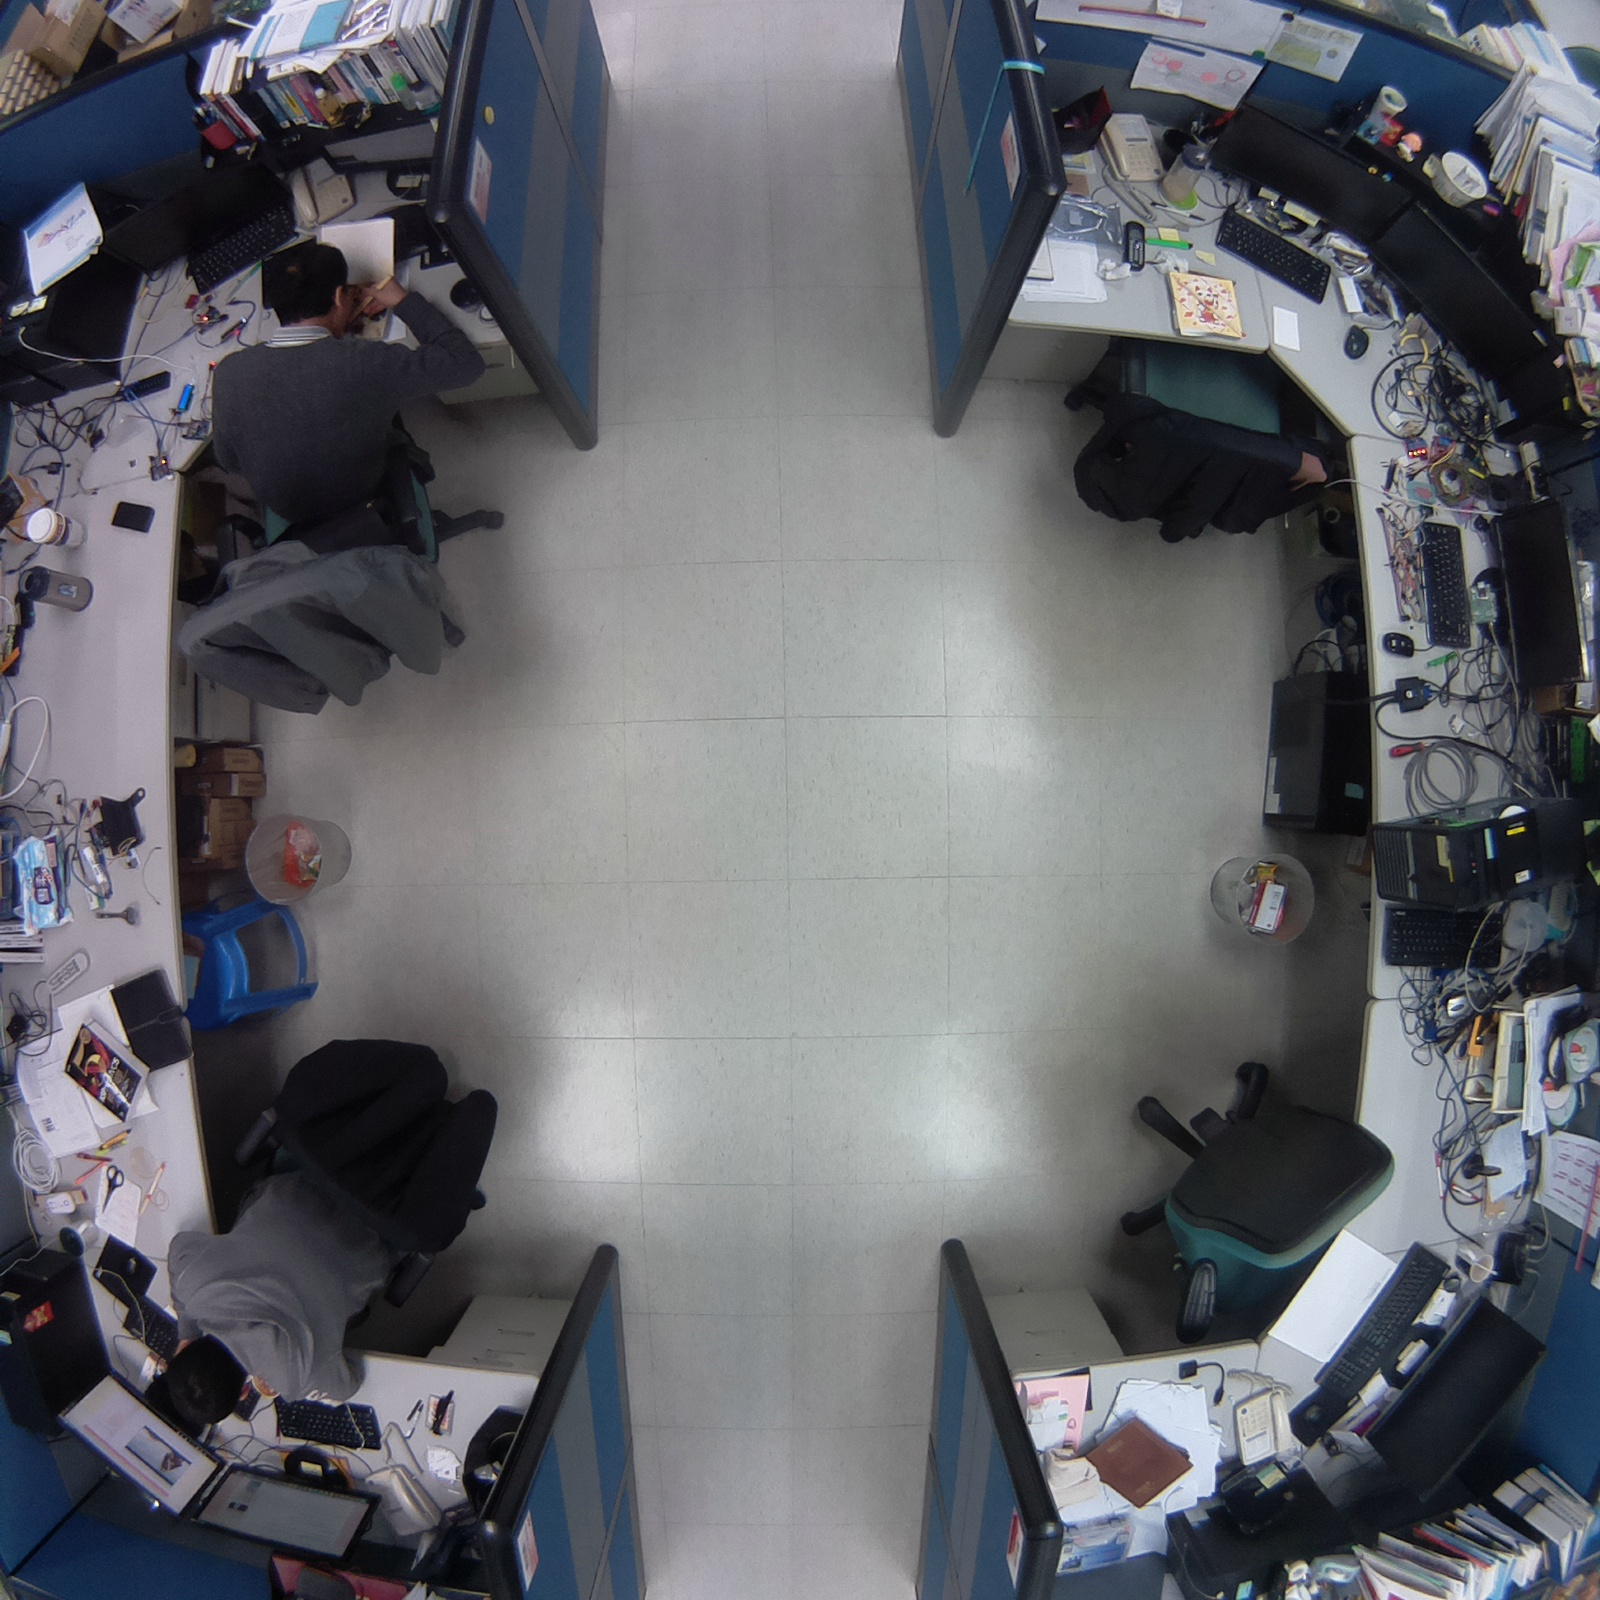chair: (1091, 1047, 1404, 1360), (1058, 309, 1347, 555)
head: (146, 1327, 259, 1434), (253, 238, 361, 327)
sitting: (163, 224, 532, 724), (135, 1029, 517, 1441)
